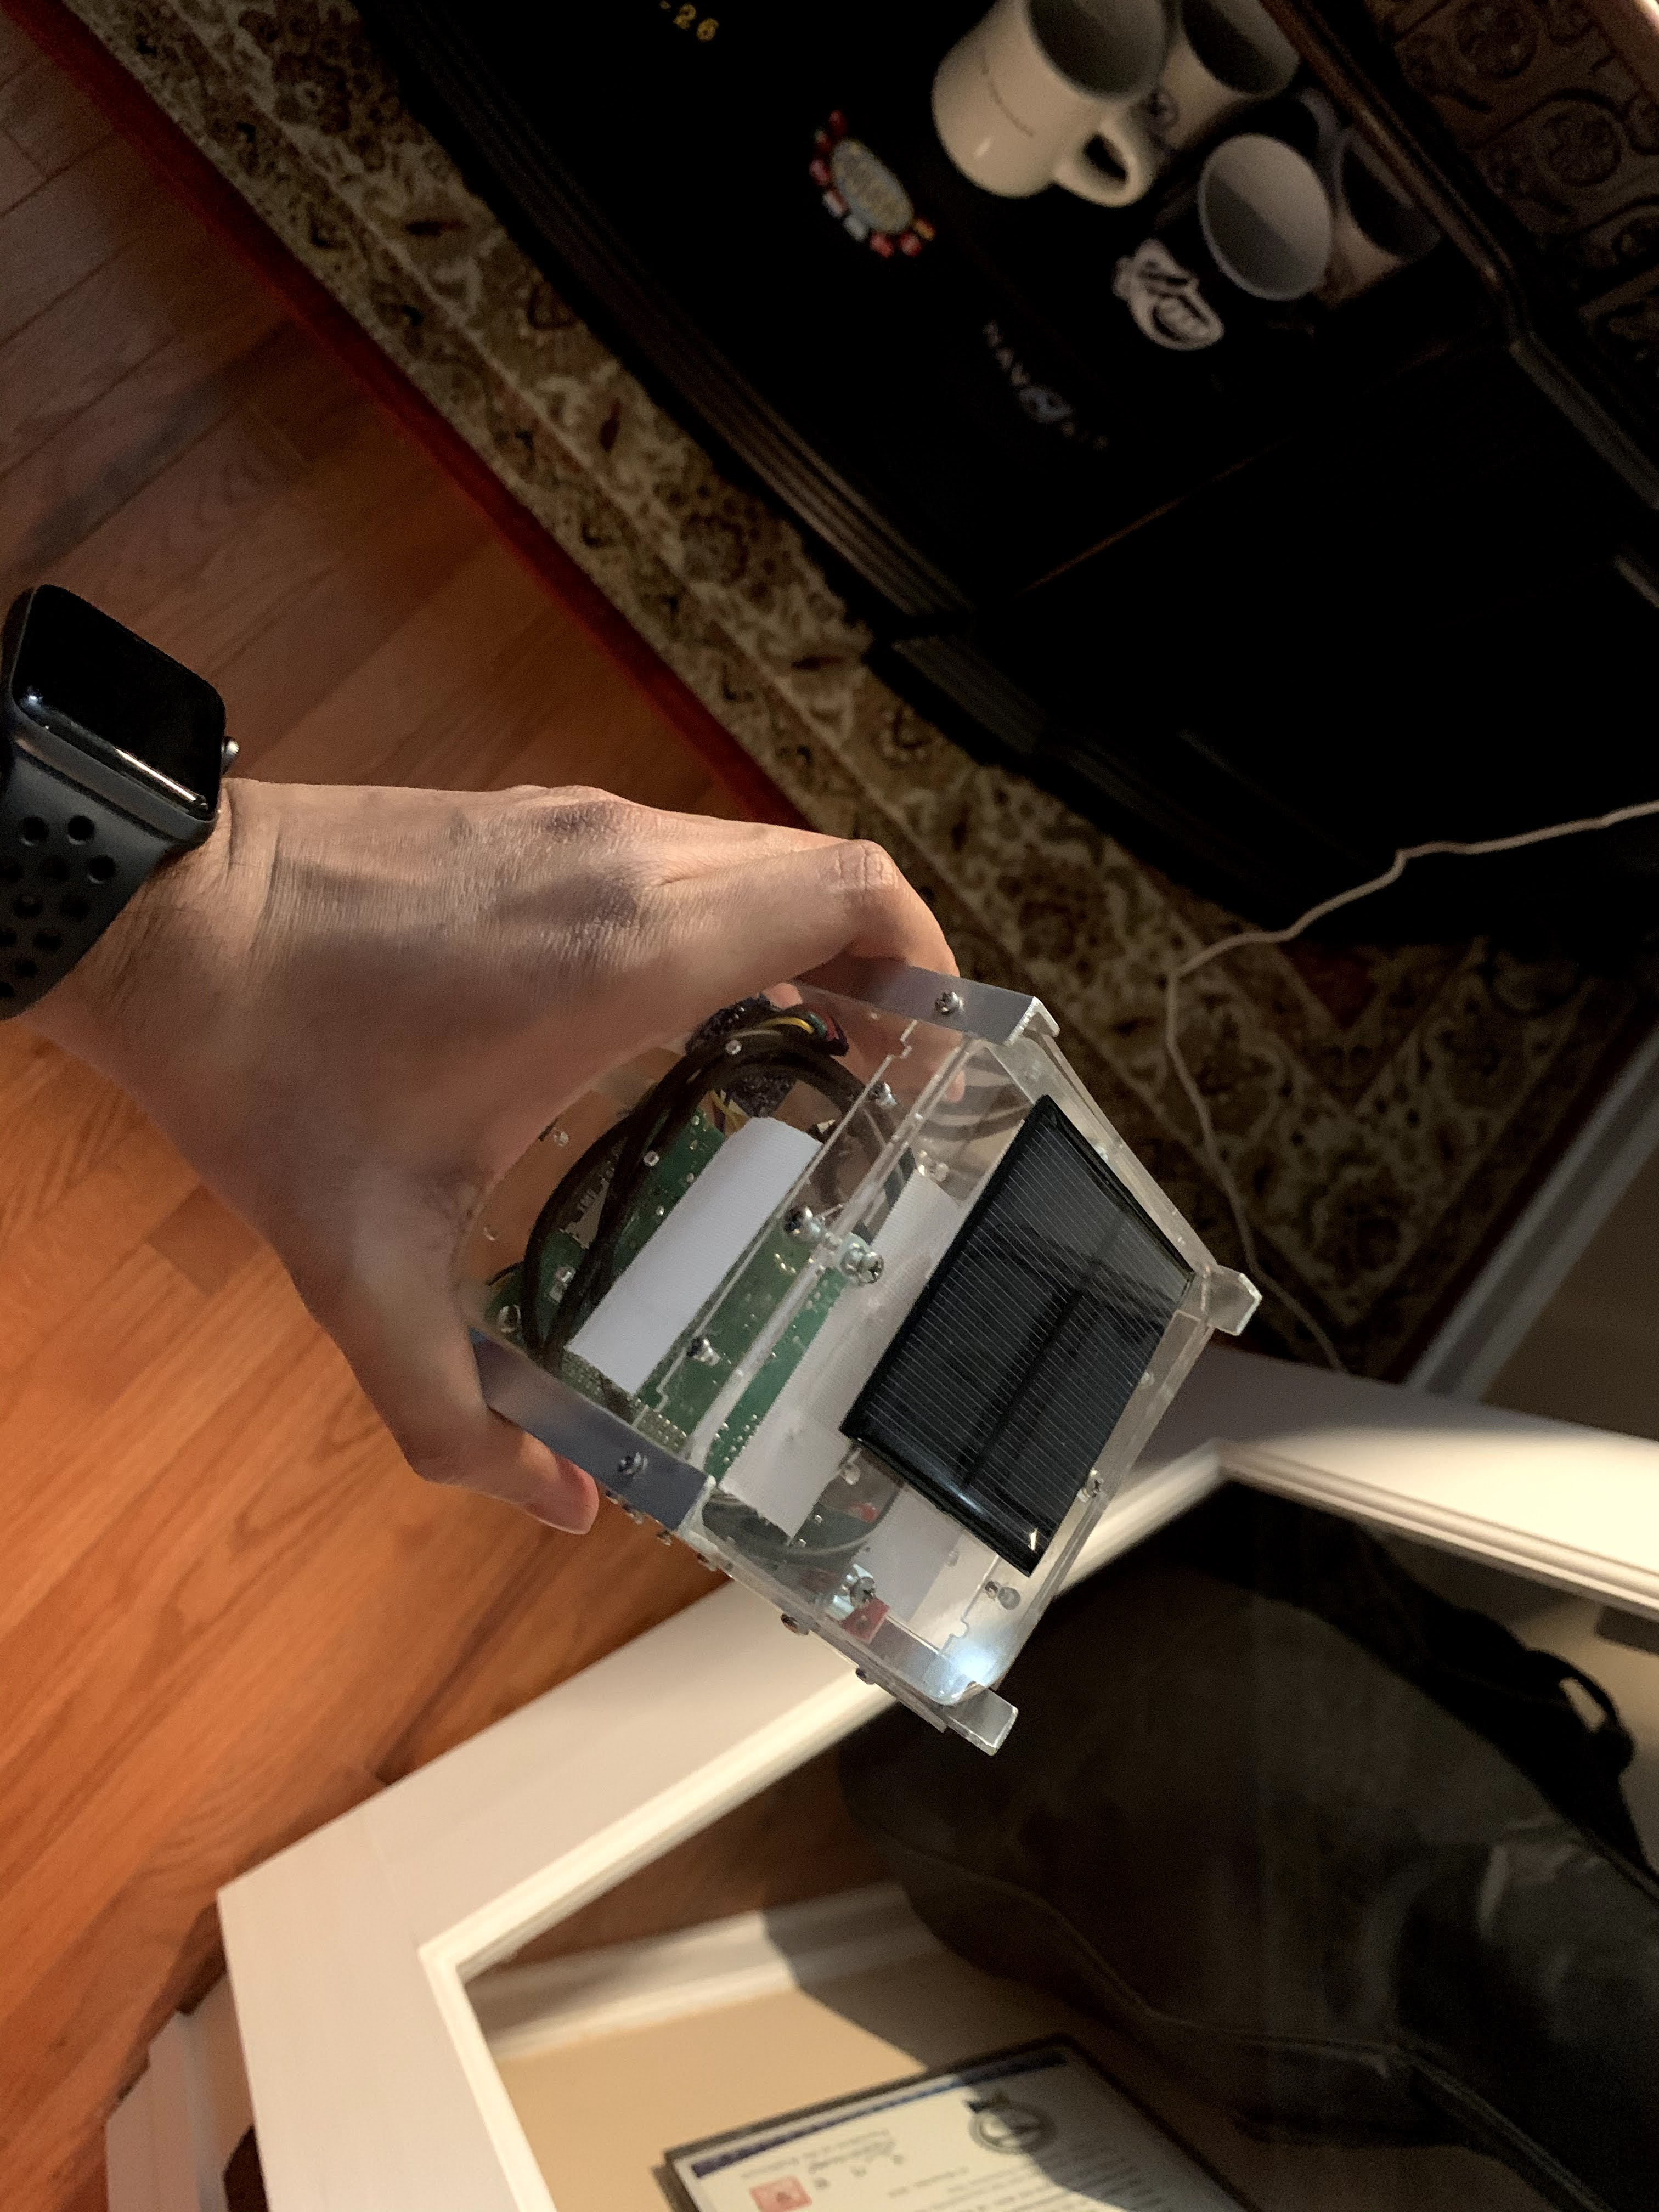Space-debris-cubesat: (472, 894, 1288, 1784)
